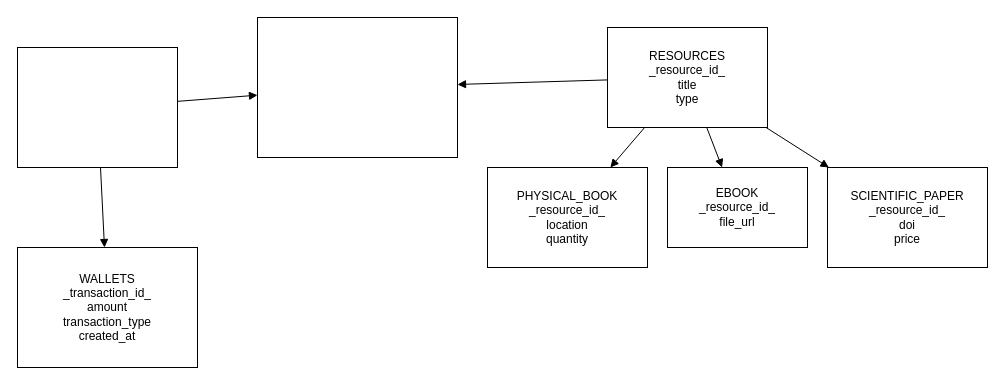
Image size: 1005x385. Some labels were removed from this diagram. The centre of each missing label's shape, as x and y in pixels:
"REVIEWS _review_id_ content rating created_at user_id (nullable) resource_id" goes at point (357, 87).
"USERS _user_id_ name email role status" goes at point (97, 107).
